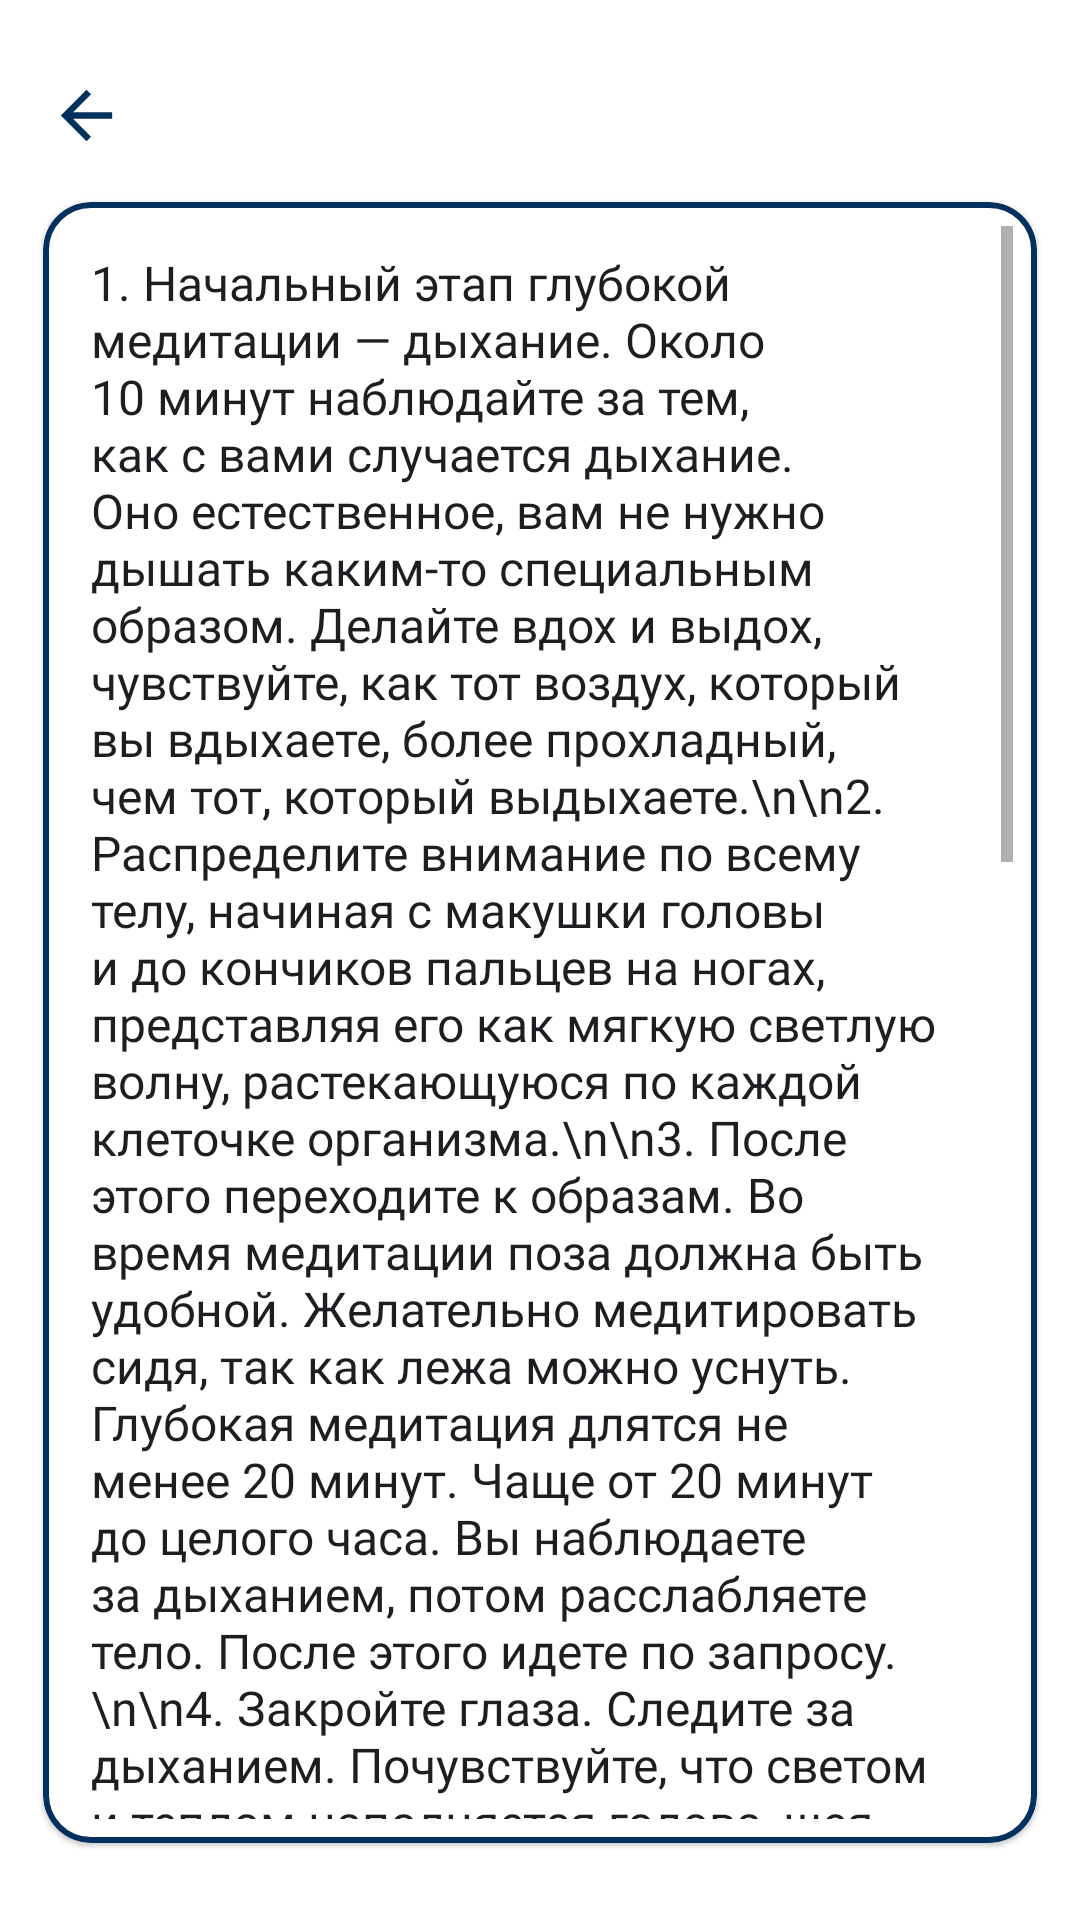

Icons on this 1080×1920 Android screen, each with the point to tap as (x=x, y=y):
back: (x=87, y=115)
